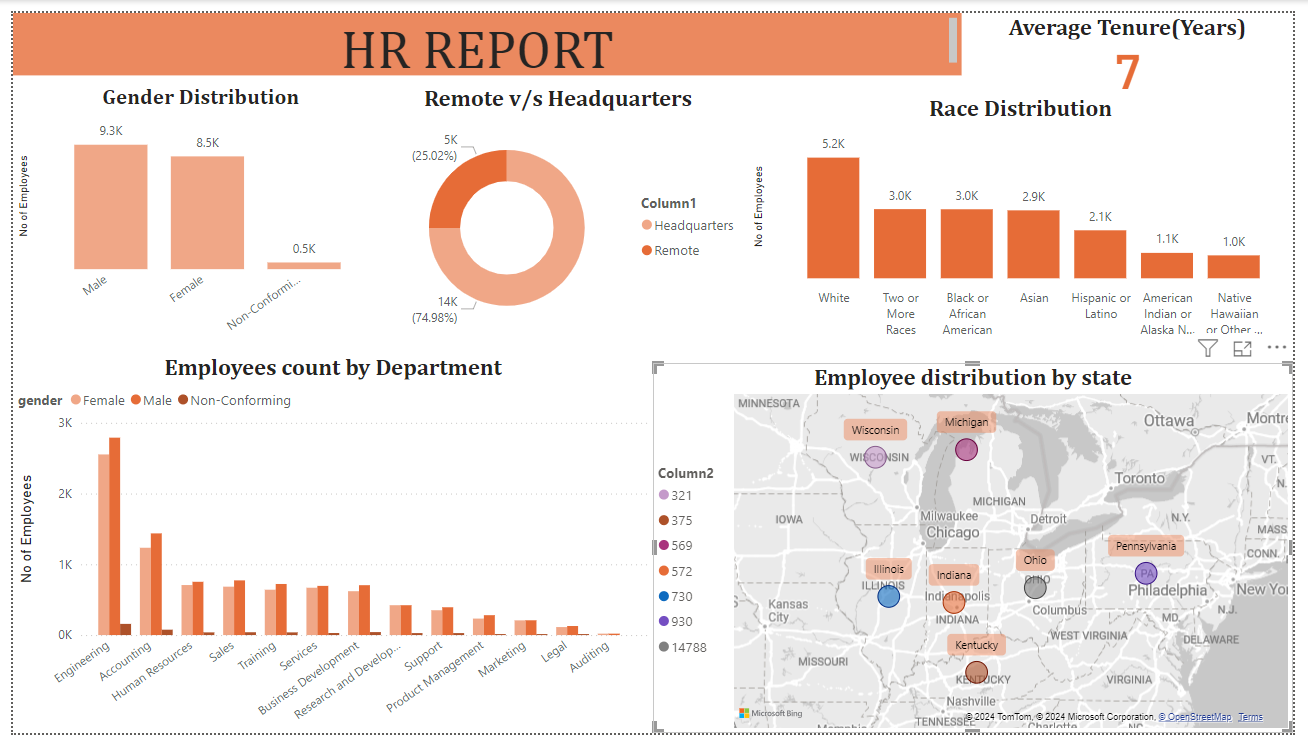

Layout of this report page (visuals, bound fields, positions):
{"tool":"powerbi","page":{"name":"Page 1","canvas":[1280,720],"ordinal":0},"visuals":[{"type":"textbox","box":[0,0,948.8,62.5],"z":0},{"type":"card","title":"Average Tenure(Years)","fields":{"Values":["Sum(average tenure.Column1)"]},"box":[948.8,0,331.2,81.2],"z":1000},{"type":"columnChart","title":"Gender Distribution","fields":{"Y":["Sum(gender.Column2)"],"Category":["gender.Column1"]},"box":[0,71.1,375.6,261.1],"z":2000},{"type":"clusteredColumnChart","title":"Employees count by Department","fields":{"Y":["Sum(gender - department.Column3)"],"Category":["gender - department.Column1"],"Series":["gender - department.Column2"]},"box":[0,340,640,380],"z":3000},{"type":"donutChart","title":"Remote v/s Headquarters","fields":{"Category":["remote vs headquarters.Column1"],"Y":["Sum(remote vs headquarters.Column2)"]},"box":[355,71.2,380,261.2],"z":4000},{"type":"map","title":"Employee distribution by state","fields":{"Series":["state distribution.Column2"],"Category":["state distribution.Column1"]},"box":[640,360,640,360],"z":5000},{"type":"columnChart","title":"Race Distribution","fields":{"Y":["Sum(race distribution.Column2)"],"Category":["race distribution.Column1"]},"box":[735,81.2,545,278.8],"z":6000}]}

Visuals, with their boxes in screenshot pixels (x1, y1, x2, y2), scaled from the page's 1280x720 canvas onto the 1308x738 screenshot:
textbox: crop(0, 0, 970, 64)
"Average Tenure(Years)" card: crop(970, 0, 1307, 83)
"Gender Distribution" columnChart: crop(0, 73, 384, 341)
"Employees count by Department" clusteredColumnChart: crop(0, 348, 654, 737)
"Remote v/s Headquarters" donutChart: crop(363, 73, 751, 341)
"Employee distribution by state" map: crop(654, 369, 1307, 737)
"Race Distribution" columnChart: crop(751, 83, 1307, 369)
